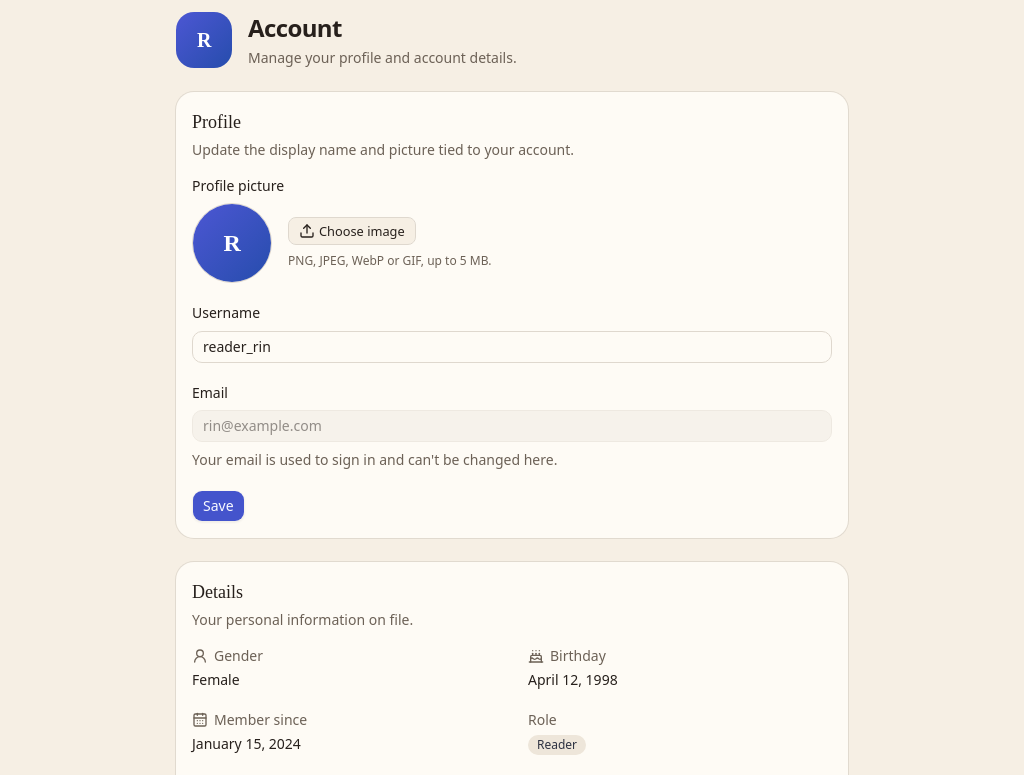
Scenario: AccountPage › prefills and saves an updated username via PUT /users/me (no email in body)
Replace the text in the field labelled "Username" with "rin_writes" at (512, 346), box x1=192 y1=330 x2=832 y2=362
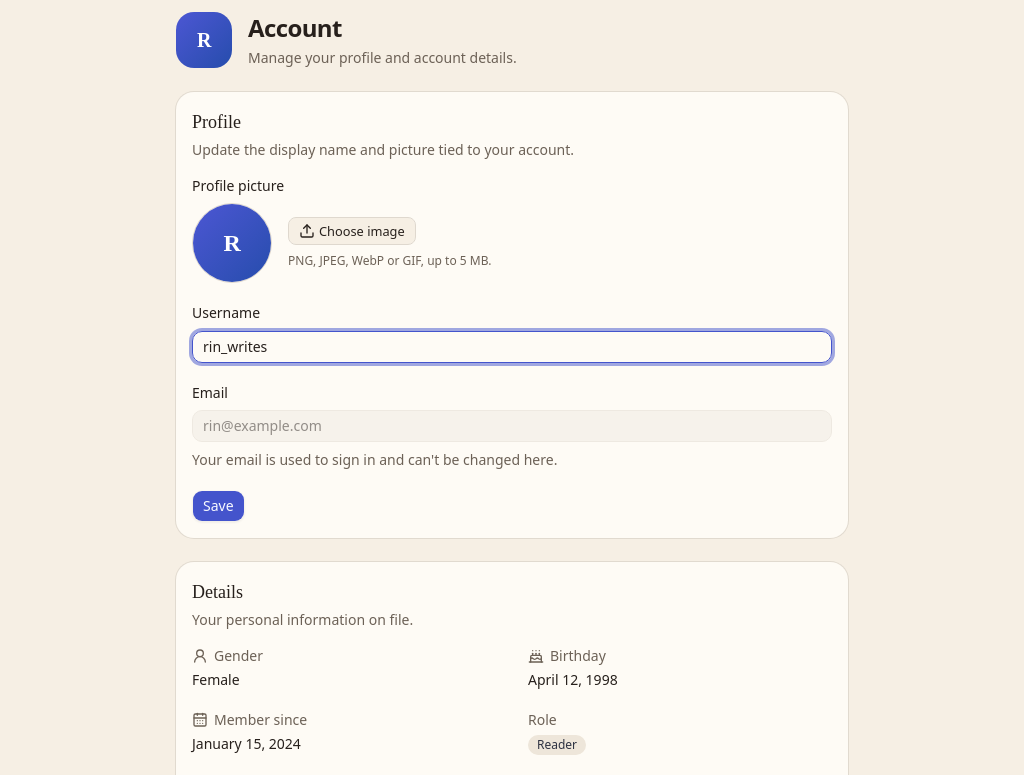
Click the button "Save" at (218, 506), box x1=192 y1=490 x2=245 y2=522
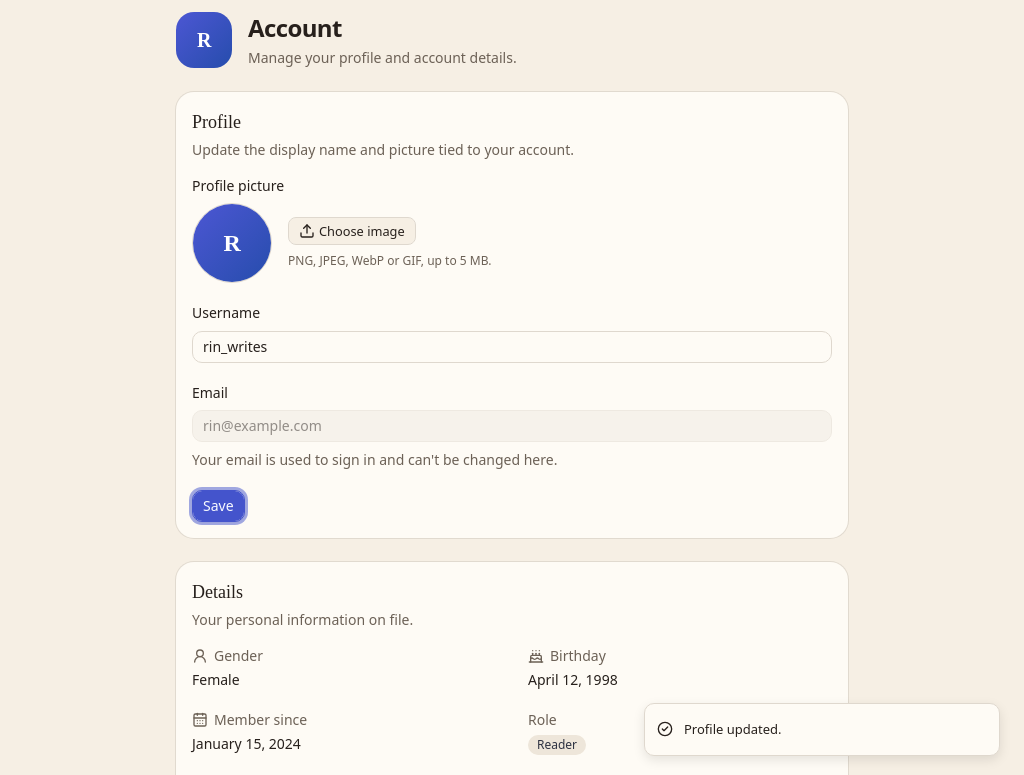
expect the text "Profile updated." is shown: met, box x1=684 y1=720 x2=782 y2=739
